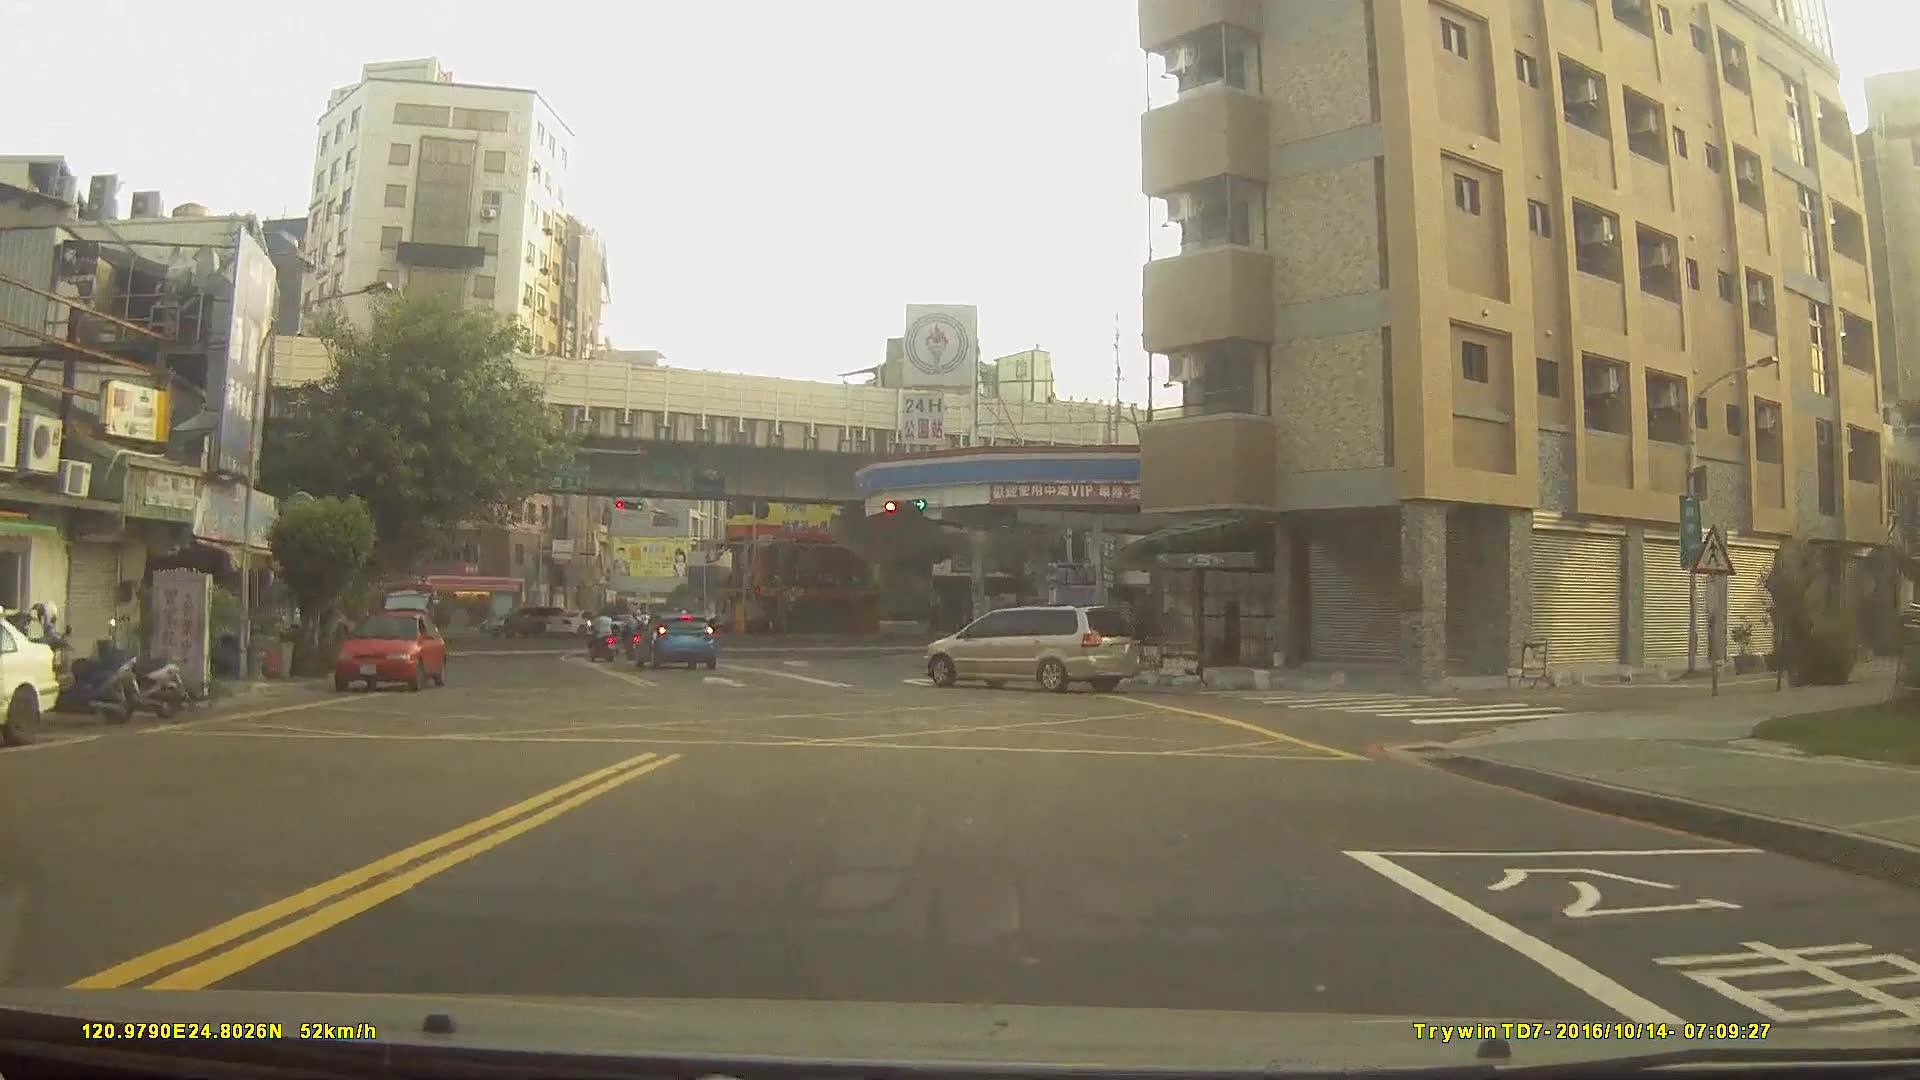rider: (588, 611, 619, 665)
vehicle: (919, 603, 1140, 691), (330, 608, 448, 691), (0, 615, 60, 748), (627, 612, 715, 670), (482, 606, 564, 640), (543, 608, 619, 638)
